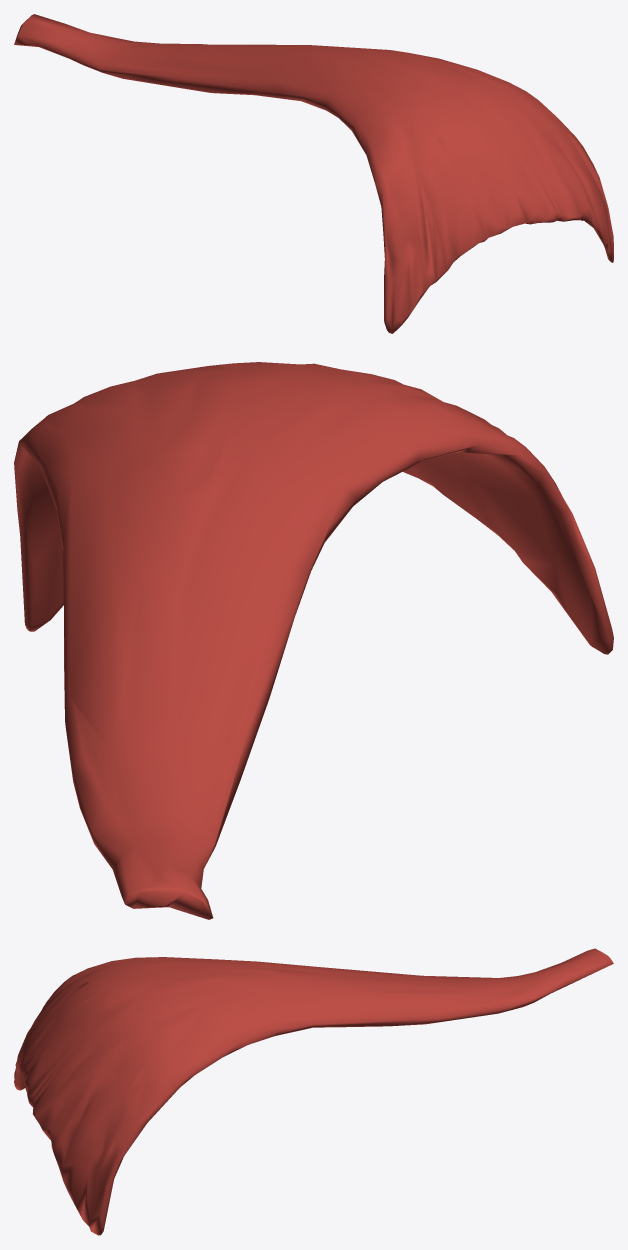
The model's file is musculos-levator-palpebrae-superioris-l.glb.
3 renders of one model, top to bottom at view 1: azimuth 30°, elevation 25°; view 2: azimuth 150°, elevation 25°; view 3: azimuth 270°, elevation 25°, orthographic. The views are drawn at different scales.
Parts seen in each view (by area): view 1: Levator palpebrae superioris.l; view 2: Levator palpebrae superioris.l; view 3: Levator palpebrae superioris.l.
Boxes of the visible parts, x1,y1,x2,y2 form: Levator palpebrae superioris.l: (14,14,613,333); Levator palpebrae superioris.l: (14,362,613,919); Levator palpebrae superioris.l: (14,948,613,1235).
Size of the model in its own units: 0.0301 by 0.0158 by 0.046.
